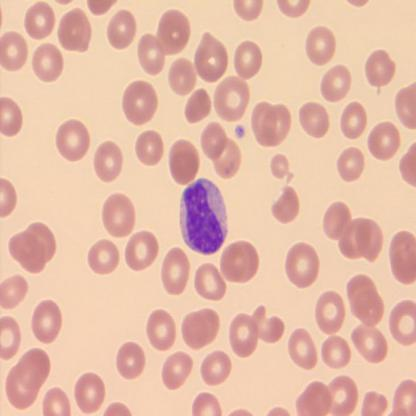Metamyelocyte: (177, 172, 231, 258)
